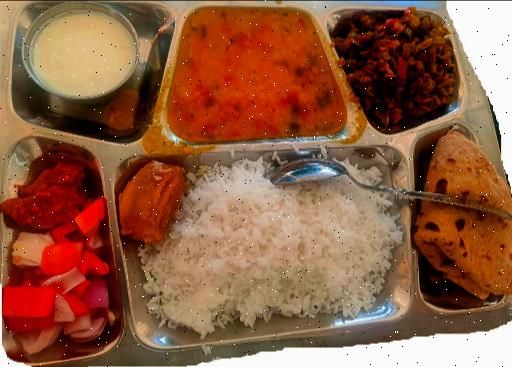Curd: (19, 1, 145, 101)
Dal: (172, 8, 336, 137)
Pickle: (0, 143, 83, 224)
Rice: (147, 162, 402, 330)
Roti: (419, 130, 512, 298)
Sweet: (110, 161, 186, 243)
Vegetable: (342, 11, 467, 120), (9, 236, 110, 347)
